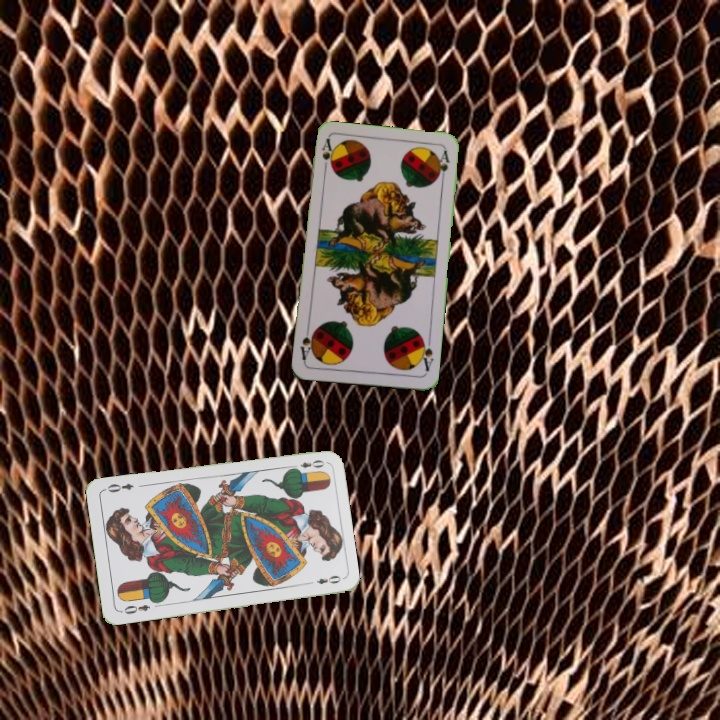EO: (287, 456, 327, 474), (117, 600, 153, 617)
SA: (416, 334, 436, 374), (318, 135, 334, 176)
